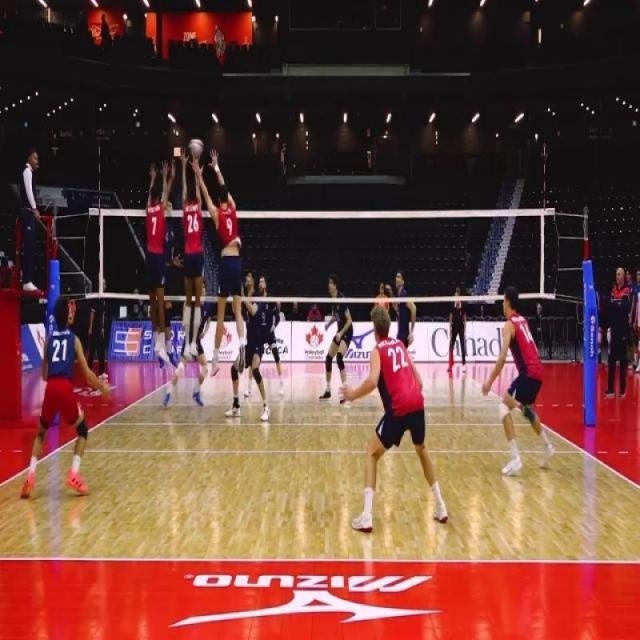volleyball: (188, 138, 205, 158)
